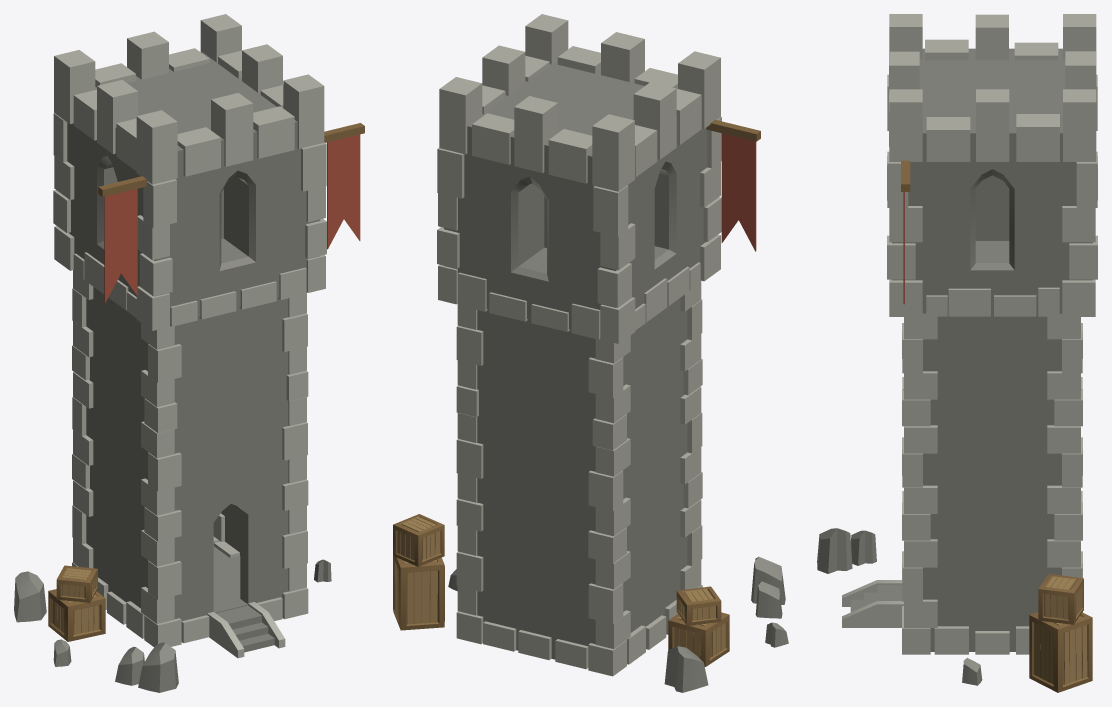
Rendered from Stone Tower.glb.
The picture shows the model from 3 angles, left to right: view 1: azimuth 30°, elevation 25°; view 2: azimuth 150°, elevation 25°; view 3: azimuth 270°, elevation 25°; orthographic projection. The views are drawn at different scales.
Visible parts, largest first — view 1: WatchTower_SecondAge_Level2; view 2: WatchTower_SecondAge_Level2; view 3: WatchTower_SecondAge_Level2.
Boxes of the visible parts, box(x1,y1,x2,y2) form: WatchTower_SecondAge_Level2: box(14, 14, 364, 692); WatchTower_SecondAge_Level2: box(393, 14, 788, 692); WatchTower_SecondAge_Level2: box(817, 14, 1097, 692).
Size of the model in its own units: 0.8384 by 1.36 by 0.6139.
